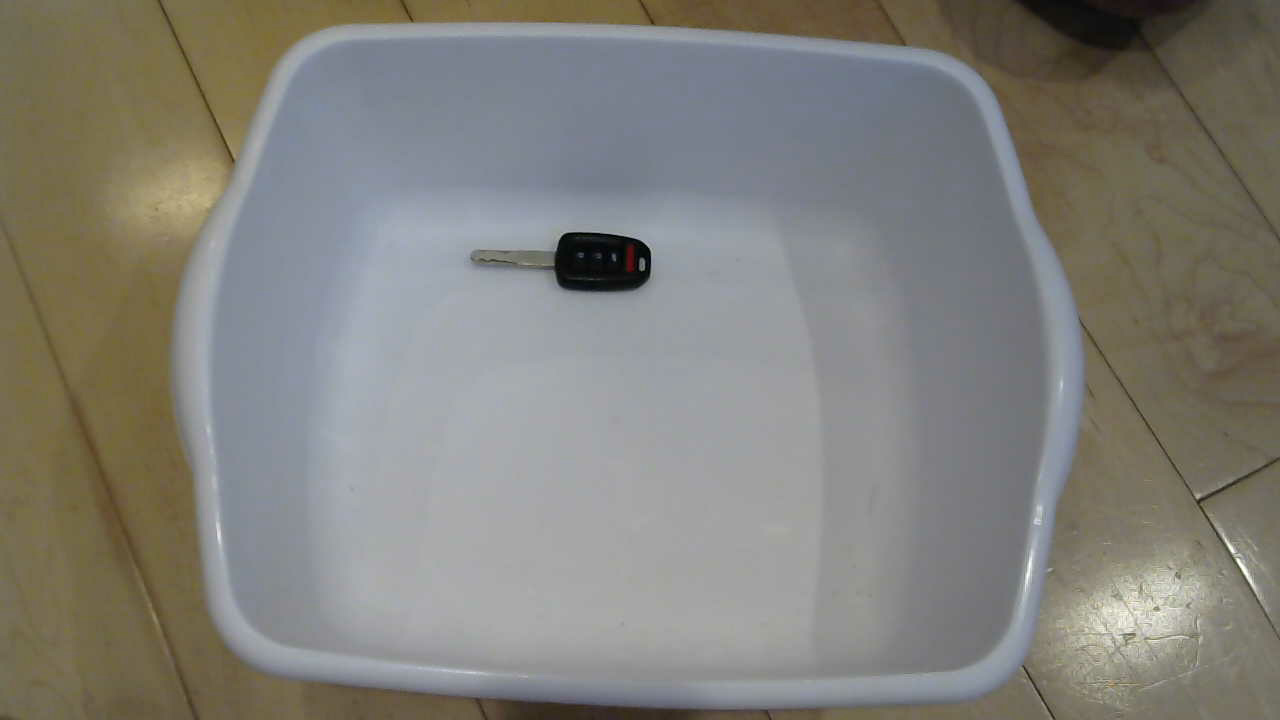key: (443, 220, 669, 316)
